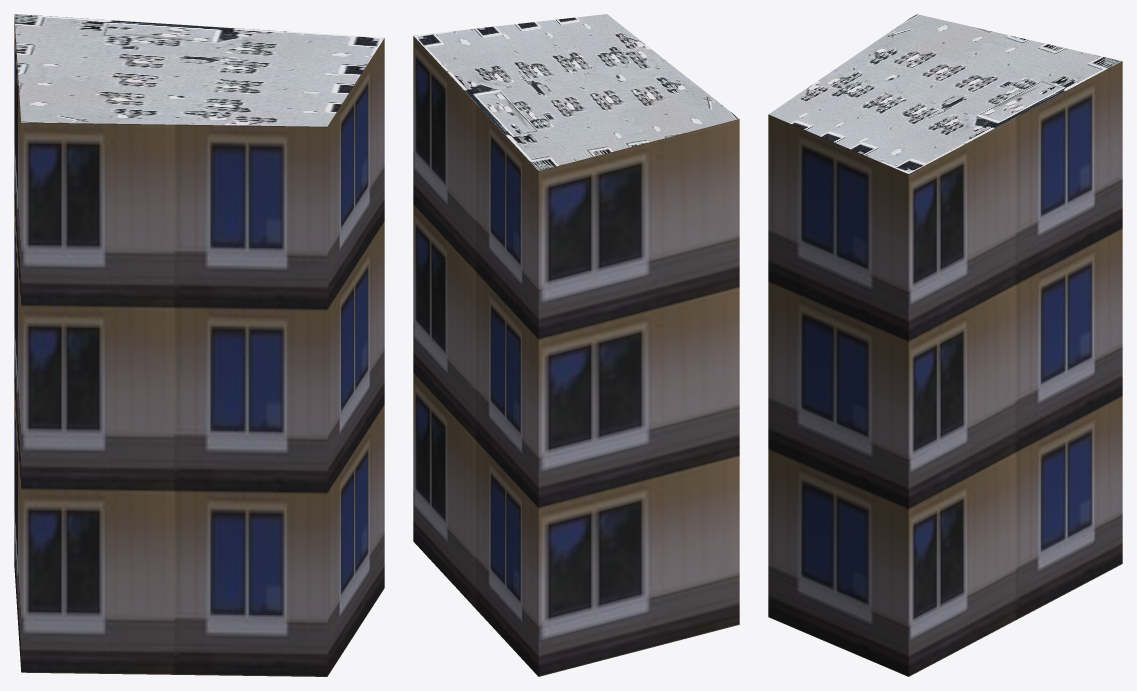
The model's file is ResTex__3932.fbx.
3 renders of one model, left to right at view 1: azimuth 30°, elevation 25°; view 2: azimuth 150°, elevation 25°; view 3: azimuth 270°, elevation 25°, orthographic. The views are drawn at different scales.
Visible parts, largest first — view 1: CityEngineMaterial_5_m, CityEngineMaterial_m; view 2: CityEngineMaterial_5_m, CityEngineMaterial_m; view 3: CityEngineMaterial_5_m, CityEngineMaterial_m.
Boxes of the visible parts, box(x1,y1,x2,y2) form: CityEngineMaterial_5_m: box(14, 18, 384, 676); CityEngineMaterial_m: box(14, 14, 384, 126); CityEngineMaterial_5_m: box(413, 36, 739, 676); CityEngineMaterial_m: box(413, 14, 739, 170); CityEngineMaterial_5_m: box(768, 61, 1122, 676); CityEngineMaterial_m: box(769, 14, 1121, 173).
Size of the model in its own units: 6.15 by 9 by 5.75.
Materials: 2 (2 with a texture image).
